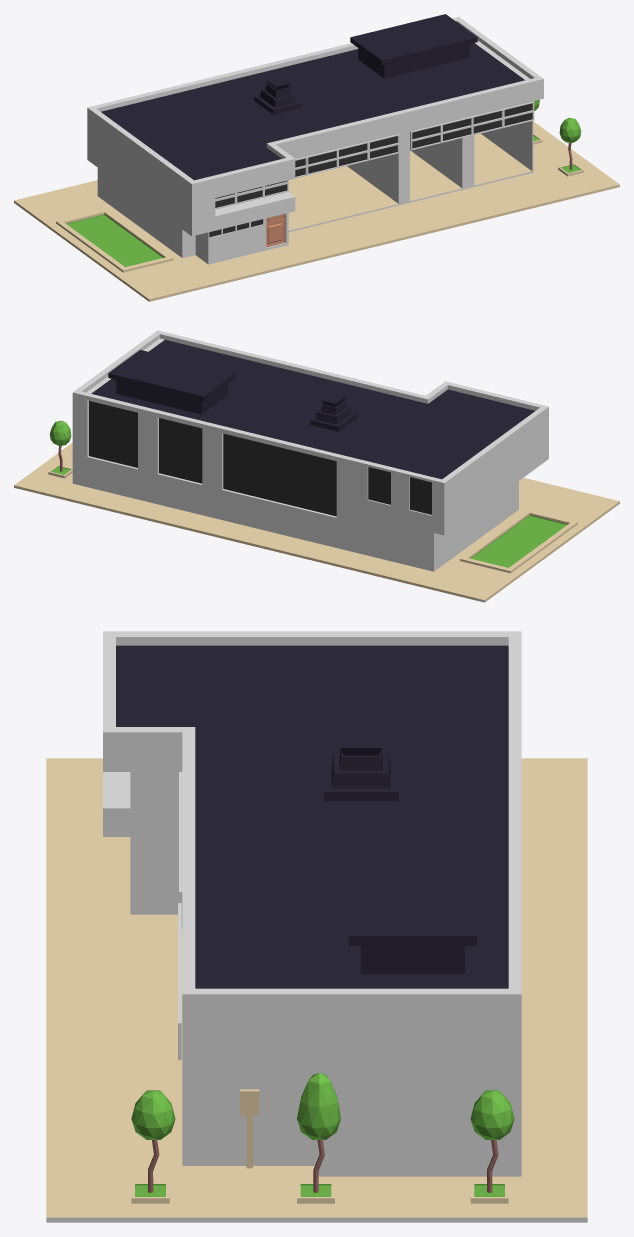
The model's file is government-building-fire-station.fbx.
The picture shows the model from 3 angles, top to bottom: view 1: azimuth 30°, elevation 25°; view 2: azimuth 150°, elevation 25°; view 3: azimuth 270°, elevation 25°; orthographic projection. The views are drawn at different scales.
Visible parts, largest first — view 1: government-building-fire-station; view 2: government-building-fire-station; view 3: government-building-fire-station.
Part boxes in pixels (box(x1,y1,x2,y2)): government-building-fire-station: box(14, 14, 619, 301); government-building-fire-station: box(14, 330, 619, 602); government-building-fire-station: box(46, 631, 587, 1222).
Size of the model in its own units: 34.07 by 7.78 by 16.95.
